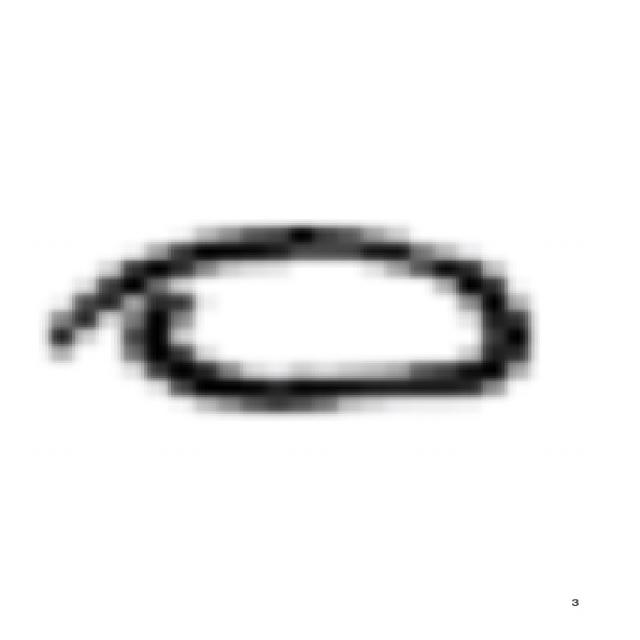5 -five-: (29, 211, 544, 422)
